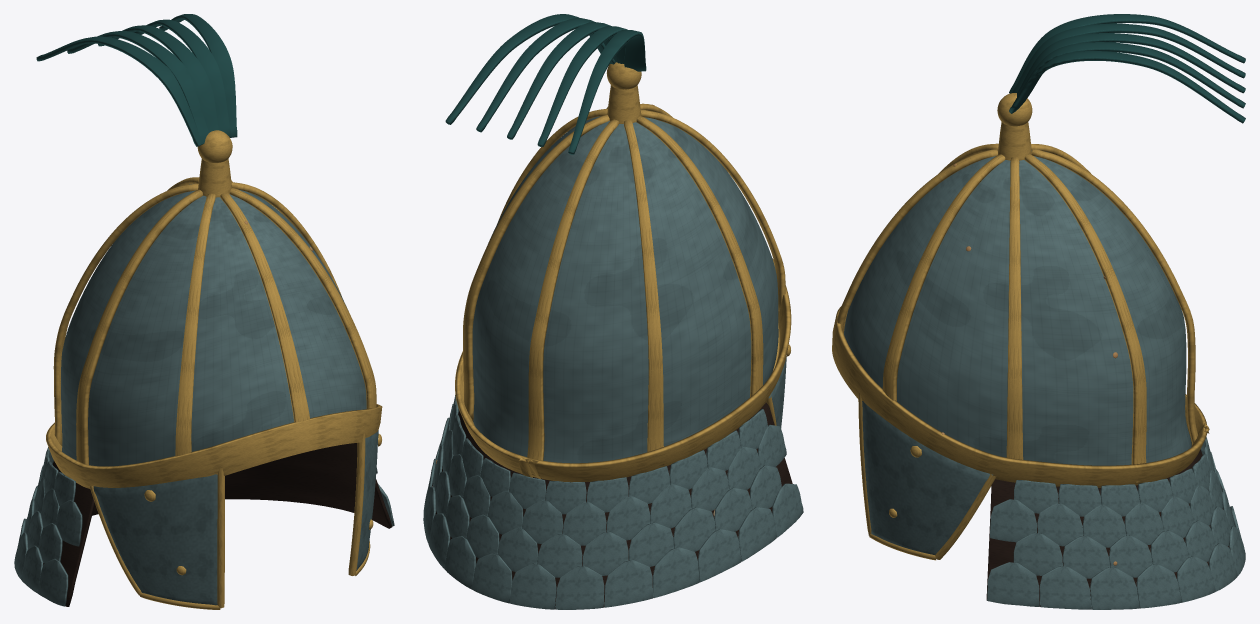
The picture shows the model from 3 angles, left to right: view 1: azimuth 30°, elevation 25°; view 2: azimuth 150°, elevation 25°; view 3: azimuth 270°, elevation 25°; orthographic projection.
Visible parts, largest first — view 1: blued scale plate, gilded alloy, woven wool, oiled strap leather; view 2: blued scale plate, gilded alloy, woven wool, oiled strap leather; view 3: blued scale plate, gilded alloy, woven wool, oiled strap leather.
Boxes of the visible parts, x1,y1,x2,y2 form: blued scale plate: (14, 183, 394, 606); gilded alloy: (46, 130, 382, 609); woven wool: (36, 14, 237, 146); oiled strap leather: (43, 443, 392, 606); blued scale plate: (423, 116, 803, 609); gilded alloy: (455, 62, 791, 482); woven wool: (445, 14, 646, 154); oiled strap leather: (432, 402, 792, 608); blued scale plate: (844, 150, 1245, 609); gilded alloy: (832, 93, 1209, 560); woven wool: (1009, 14, 1245, 123); oiled strap leather: (986, 449, 1228, 607).
Size of the model in its own units: 0.2858 by 0.4283 by 0.3066.
Materials: 7 (5 with a texture image).
